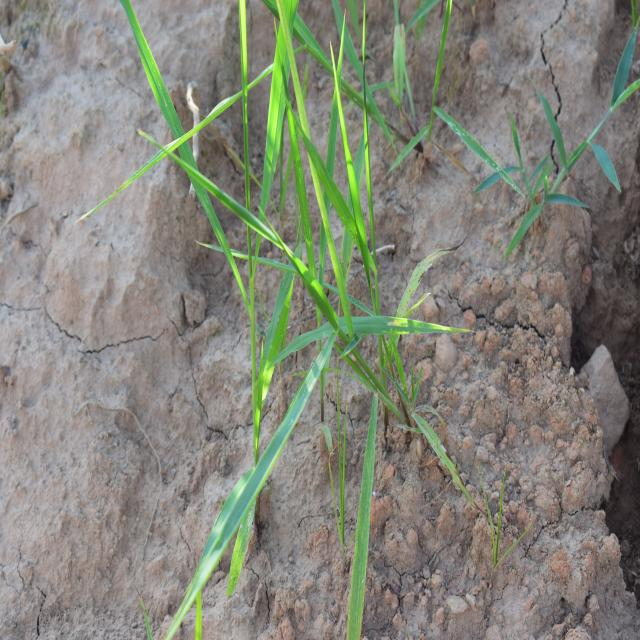green_foxtail: (179, 44, 419, 487)
